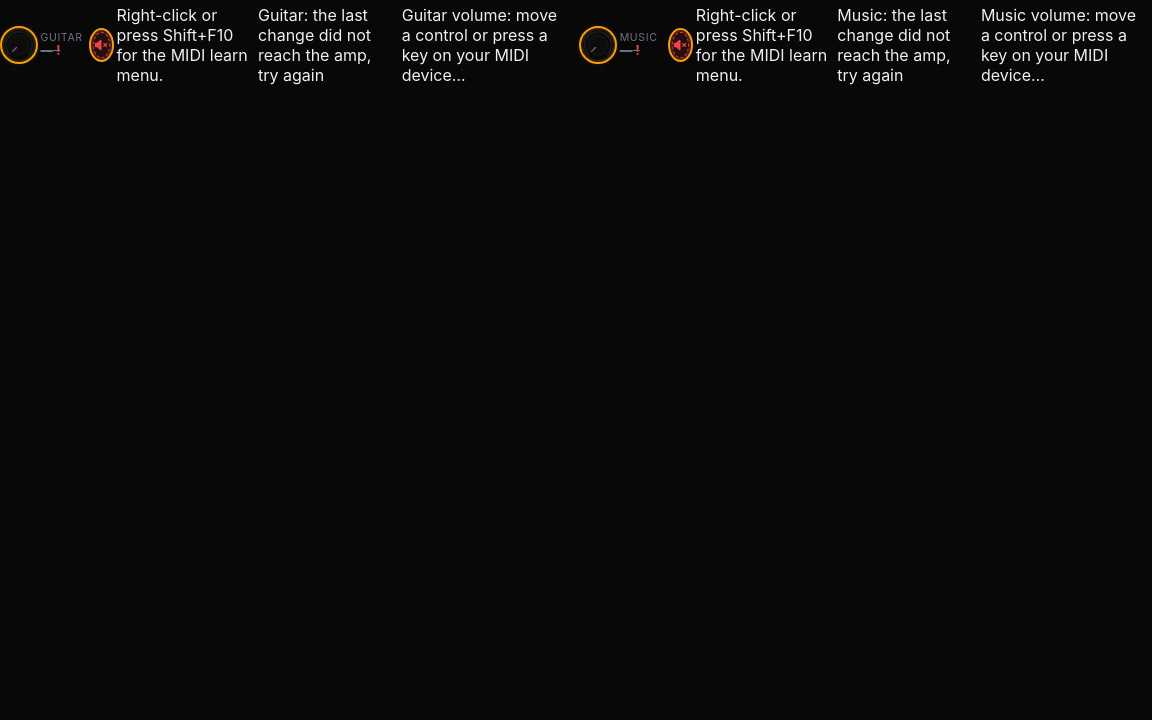
Test: GlobalMixerControls MIDI learn › closes on a click outside
Right-click the slider named "Music volume" at (598, 45), box [583,30,613,60]
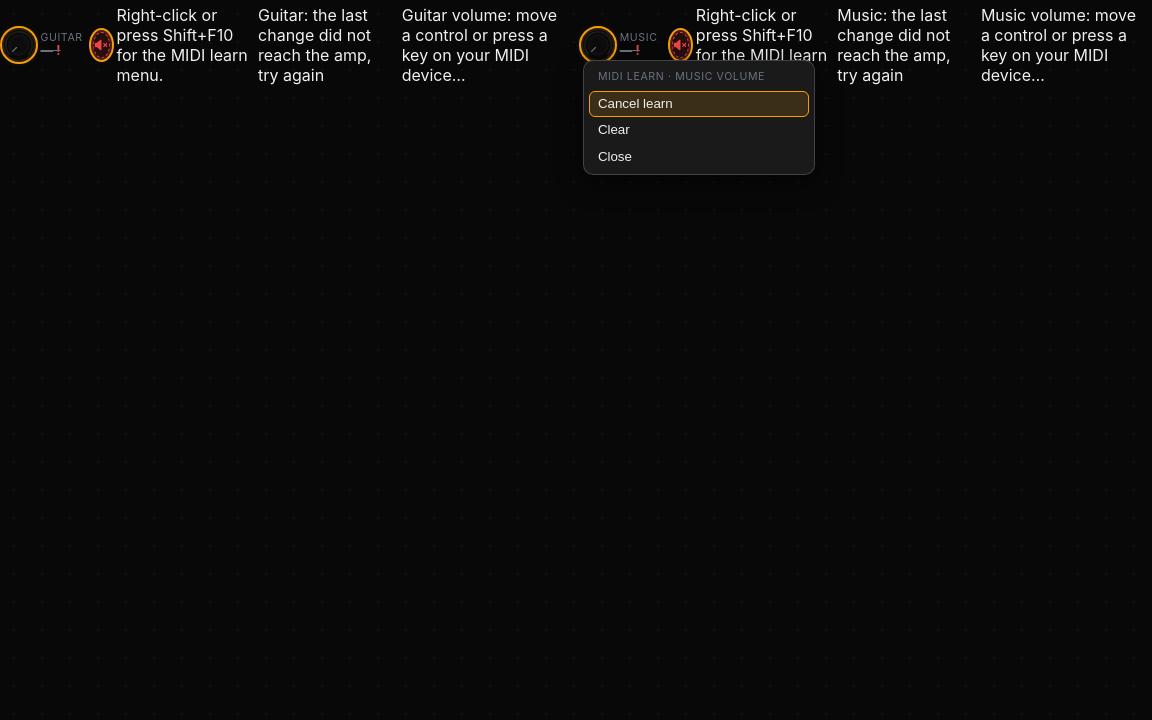
Expected: the menu named "MIDI learn: Music volume" is shown, [583,60,815,175]
Press the mouse on the element that starts with "Guitar" at (576, 360), box [0,0,1151,719]
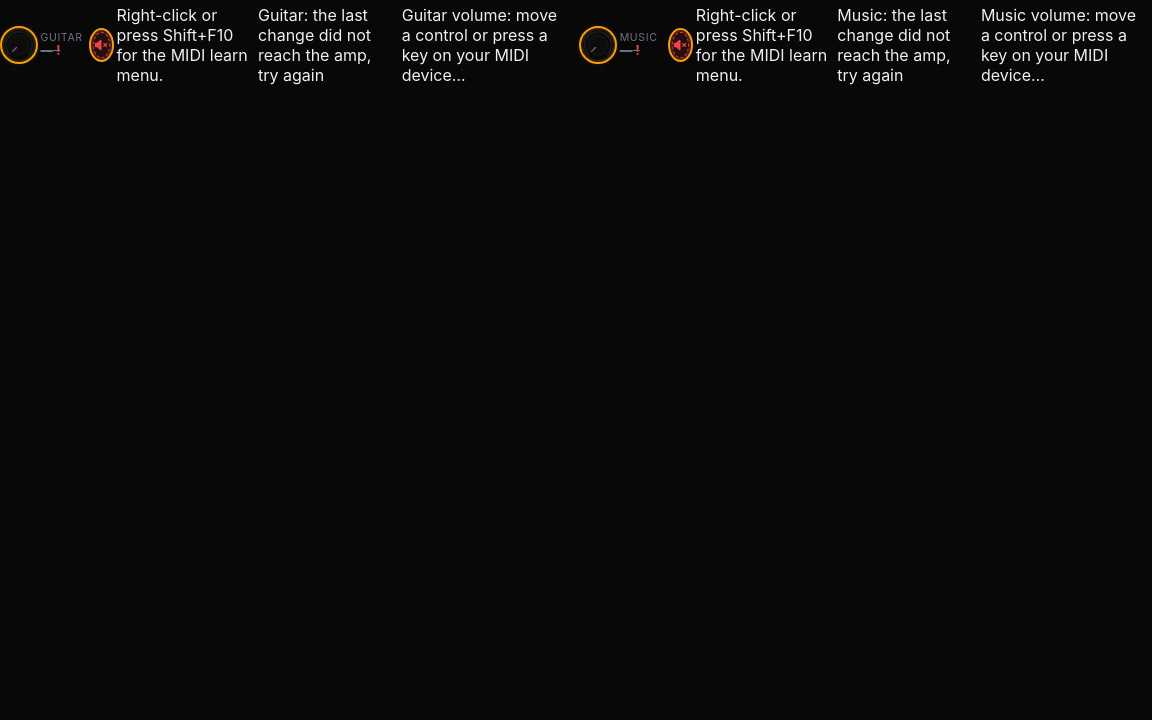
Expected: the menu is gone
